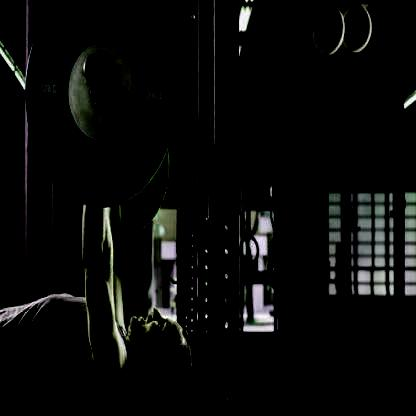Barbell: (83, 52, 105, 86)
